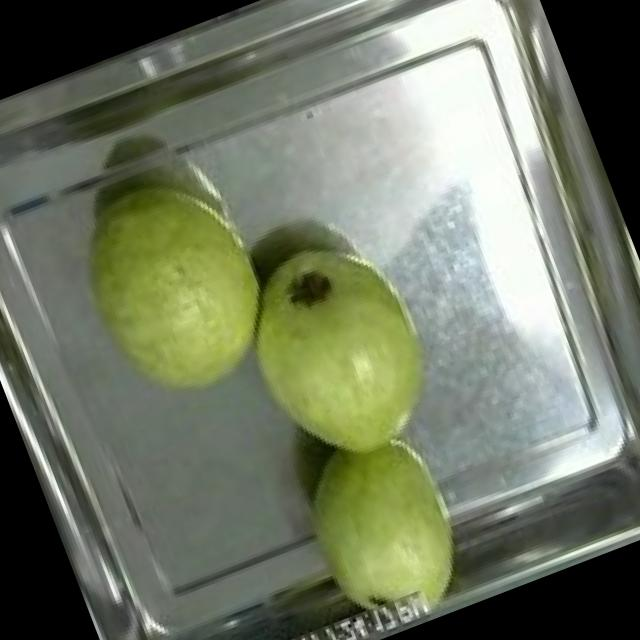Fruit: (50, 148, 306, 430), (211, 211, 462, 488), (278, 413, 492, 640)
